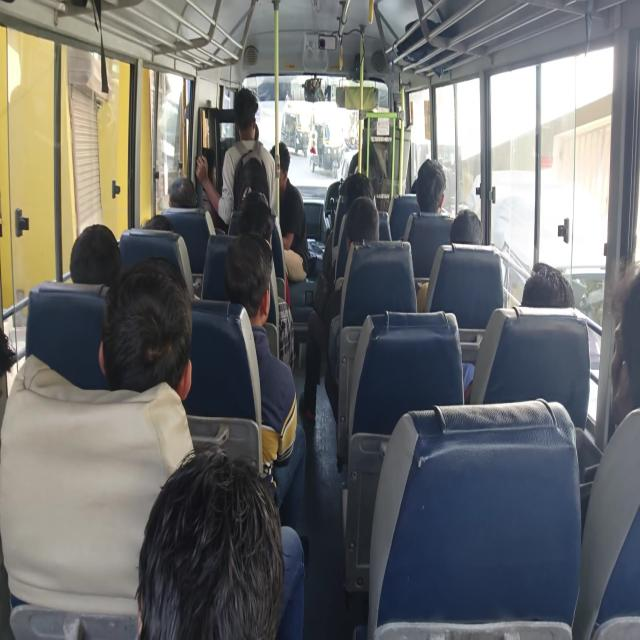person: (115, 441, 312, 640), (111, 264, 193, 425), (589, 278, 640, 387), (514, 253, 588, 323), (0, 321, 30, 466), (262, 144, 310, 231), (58, 229, 115, 300), (237, 97, 278, 168), (353, 213, 398, 273), (446, 205, 494, 258), (216, 222, 282, 254), (416, 156, 451, 215), (232, 244, 267, 302), (147, 202, 183, 253), (171, 174, 211, 213), (412, 165, 443, 210), (344, 164, 371, 214), (247, 190, 268, 218)
